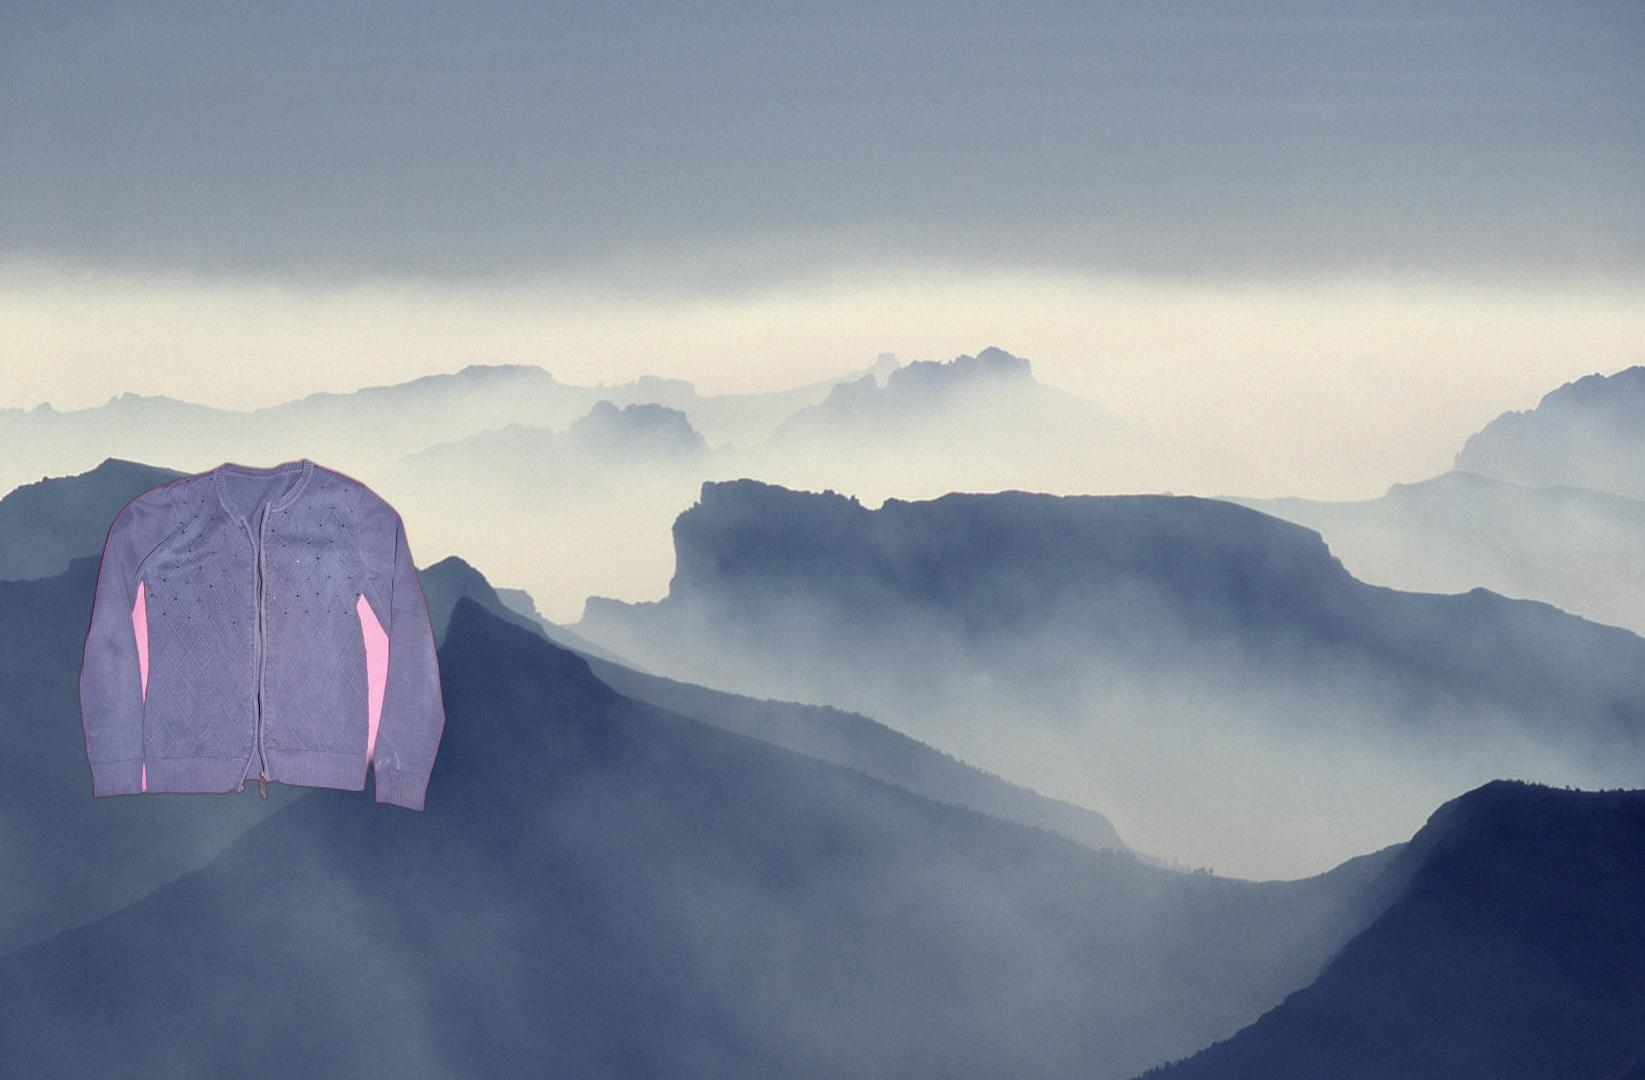clothes: (75, 454, 450, 818)
